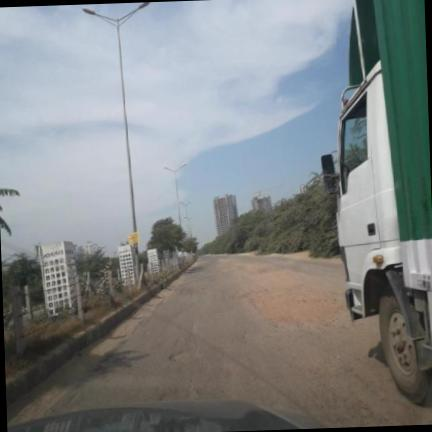Road: (7, 256, 431, 427)
